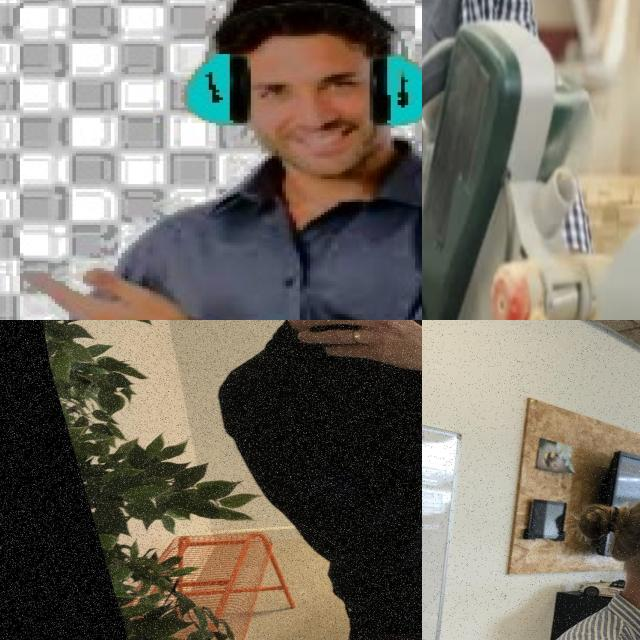Ear-protection: (145, 17, 422, 137), (597, 472, 640, 634)
person: (193, 320, 422, 637), (422, 0, 555, 320)
